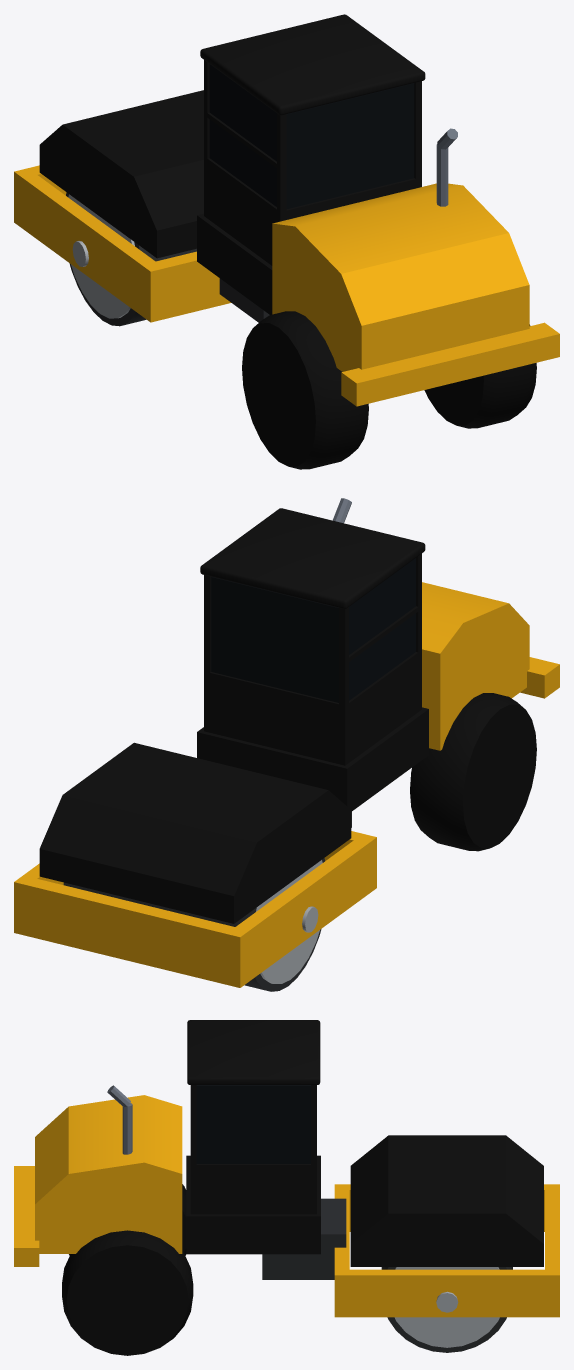
Rendered from plant.earthmoving.roller.glb.
3 views of the same model, one above another, from view 1: azimuth 30°, elevation 25°; view 2: azimuth 150°, elevation 25°; view 3: azimuth 270°, elevation 25° (orthographic). The views are drawn at different scales.
Parts seen in each view (by area): view 1: body__plant_yellow, body__plastic_black, wheels__rubber, body__glass_dark, drum__steel_galvanised, body__steel_painted, drum__steel_dark, body__steel_dark; view 2: body__plastic_black, body__plant_yellow, body__glass_dark, wheels__rubber, drum__steel_galvanised, drum__steel_dark; view 3: body__plastic_black, body__plant_yellow, wheels__rubber, body__glass_dark, body__steel_dark, drum__steel_galvanised, drum__steel_dark, body__steel_painted.
Part boxes in pixels (box(x1,y1,x2,y2)): body__plant_yellow: box(14, 165, 559, 406); body__plastic_black: box(39, 14, 425, 314); wheels__rubber: box(242, 311, 536, 469); body__glass_dark: box(209, 64, 414, 208); drum__steel_galvanised: box(68, 194, 134, 318); body__steel_painted: box(436, 128, 457, 206); drum__steel_dark: box(66, 192, 196, 326); body__steel_dark: box(219, 278, 269, 322); body__plastic_black: box(39, 508, 428, 923); body__plant_yellow: box(14, 582, 559, 987); body__glass_dark: box(211, 558, 415, 702); wheels__rubber: box(410, 693, 536, 851); drum__steel_galvanised: box(256, 860, 322, 983); drum__steel_dark: box(63, 858, 324, 991); body__plastic_black: box(186, 1020, 543, 1266); body__plant_yellow: box(14, 1095, 559, 1317); wheels__rubber: box(62, 1184, 193, 1355); body__glass_dark: box(196, 1085, 310, 1163); body__steel_dark: box(262, 1198, 346, 1279); drum__steel_galvanised: box(394, 1267, 499, 1347); drum__steel_dark: box(381, 1267, 512, 1352); body__steel_painted: box(107, 1085, 132, 1154).
Size of the model in its own units: 2.63 by 3.5 by 6.49.
